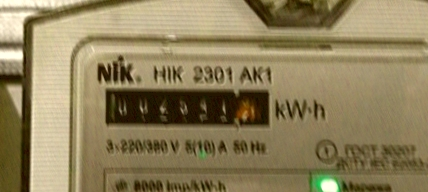0: (117, 96, 130, 117), (138, 94, 150, 115)
1: (219, 93, 230, 117)
2: (158, 93, 172, 115)
4: (199, 93, 210, 114)
5: (178, 94, 191, 117)
6: (241, 110, 252, 122)
screen: (93, 79, 283, 136)
